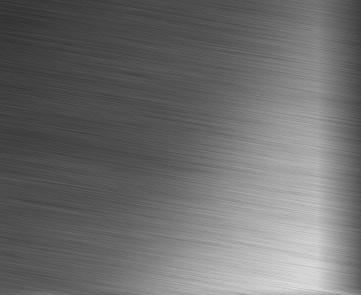Airbag: (0, 0, 360, 295), (343, 0, 361, 295), (0, 293, 360, 295), (344, 293, 361, 295)
